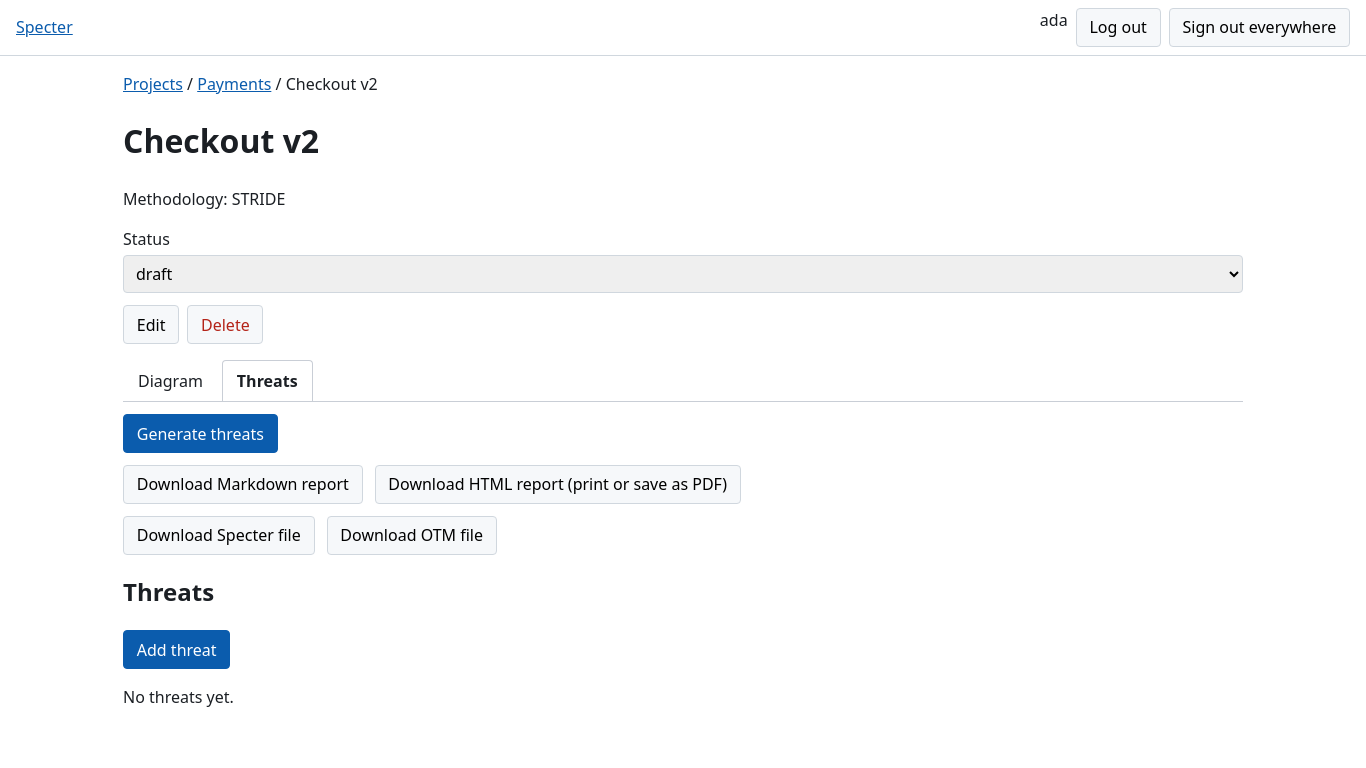
ThreatModelPage header › shows the server’s state, not the attempted one, when the status change is rejected
This screenshot has width=1366, height=768.
Select "approved" in the dropdown labelled "Status" at [683, 274], box [123,255,1243,294]
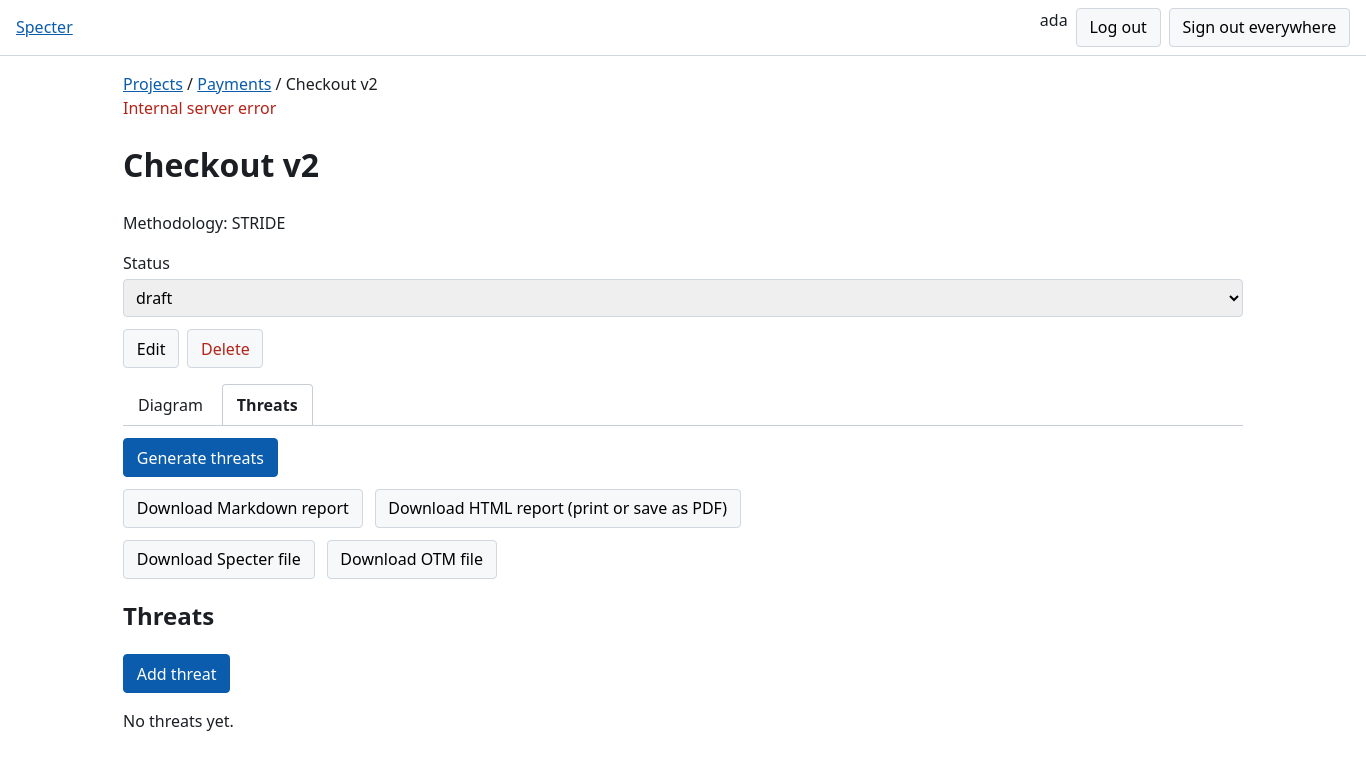
Expected: the text "Internal server error" is shown, [123,97,276,119]
